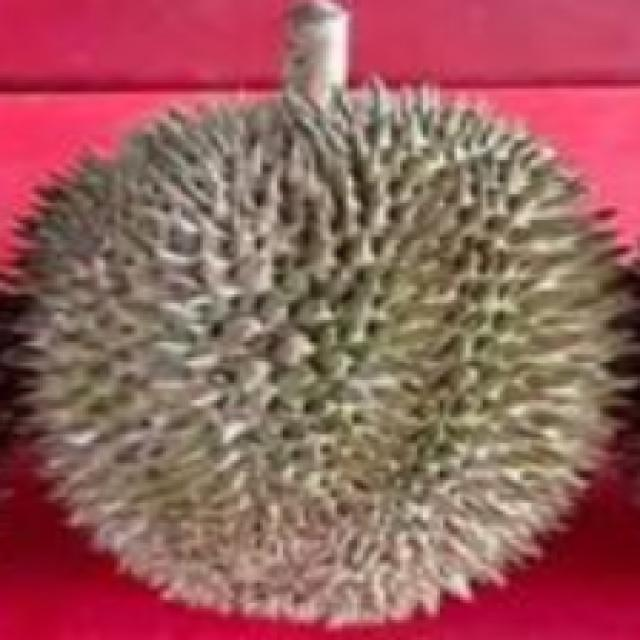d24: (27, 20, 628, 591)
